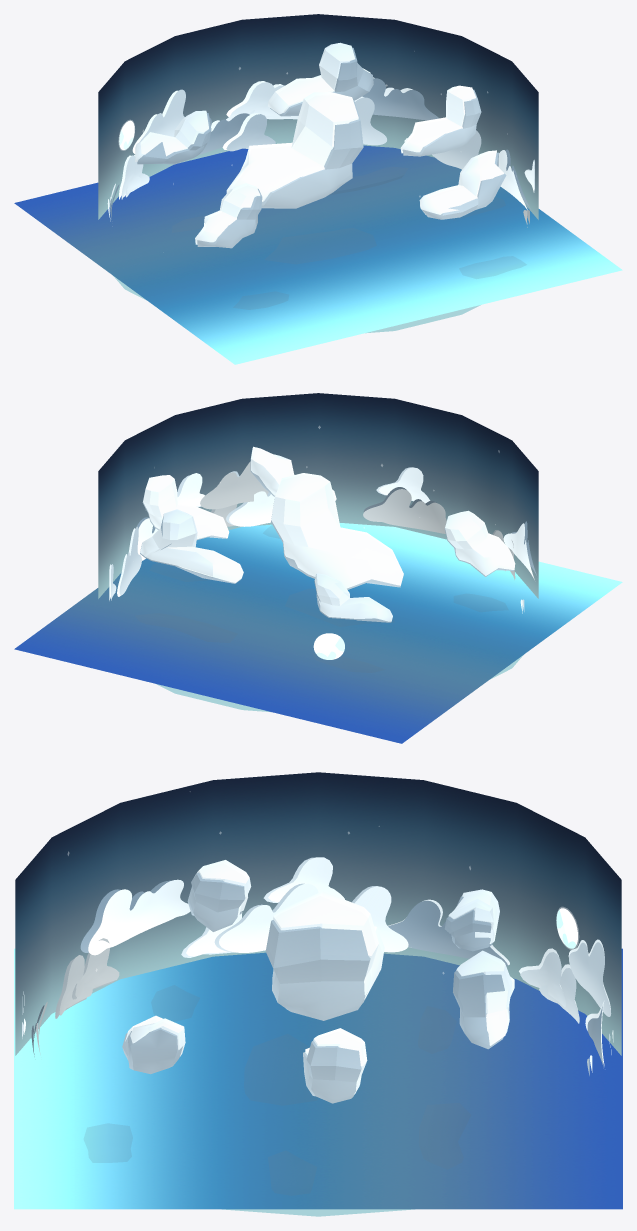
The model's file is space_race_vr.glb.
The picture shows the model from 3 angles, top to bottom: view 1: azimuth 30°, elevation 25°; view 2: azimuth 150°, elevation 25°; view 3: azimuth 270°, elevation 25°; orthographic projection. The views are drawn at different scales.
Visible parts, largest first — view 1: Object_3, Object_12, Object_11, Object_10, Object_5, Object_8, Object_6, Object_7, Object_9; view 2: Object_3, Object_12, Object_11, Object_4, Object_10, Object_5, Object_8, Object_7, Object_15, Object_6; view 3: Object_3, Object_12, Object_11, Object_10, Object_5, Object_8, Object_6, Object_7, Object_4, Object_9, Object_15.
Part boxes in pixels (x1,y1,x2,y2): Object_3: (14, 145, 622, 364); Object_12: (98, 14, 538, 333); Object_11: (135, 42, 506, 248); Object_10: (172, 167, 525, 309); Object_5: (119, 81, 534, 199); Object_8: (134, 79, 437, 150); Object_6: (107, 77, 530, 220); Object_7: (356, 99, 530, 208); Object_9: (108, 88, 529, 218); Object_3: (14, 523, 622, 743); Object_12: (98, 393, 538, 712); Object_11: (140, 446, 515, 622); Object_4: (200, 461, 515, 579); Object_10: (136, 525, 507, 672); Object_5: (109, 467, 524, 613); Object_8: (229, 493, 535, 574); Object_7: (118, 518, 535, 593); Object_15: (313, 633, 344, 659); Object_6: (117, 517, 536, 594); Object_3: (14, 948, 622, 1209); Object_12: (15, 772, 621, 1216); Object_11: (122, 860, 514, 1103); Object_10: (84, 985, 470, 1195); Object_5: (22, 857, 613, 1075); Object_8: (85, 881, 609, 1058); Object_6: (80, 879, 606, 1068); Object_7: (83, 880, 405, 952); Object_4: (31, 938, 119, 1056); Object_9: (393, 902, 507, 962); Object_15: (556, 908, 577, 948).
Size of the model in its own units: 66.24 by 25.26 by 65.38.
9 materials, 9 textured.
